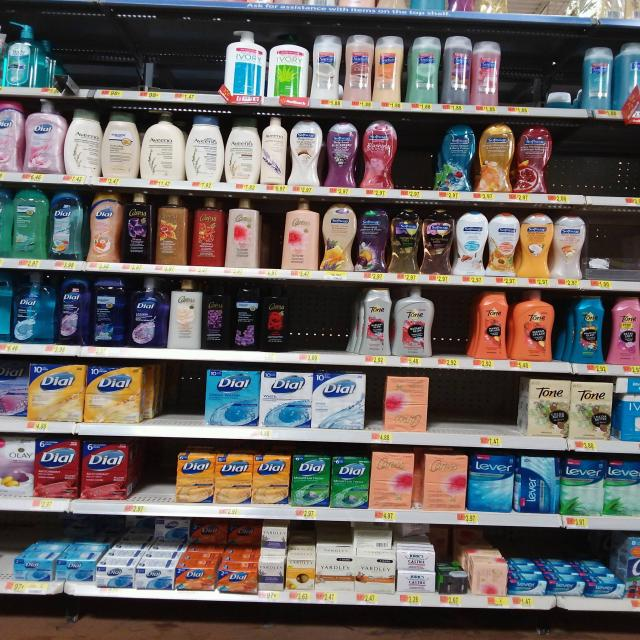void: (512, 39, 582, 118), (141, 3, 188, 107), (293, 280, 351, 363), (592, 209, 638, 299), (146, 366, 197, 437), (97, 13, 137, 103), (472, 370, 512, 455), (192, 14, 228, 105), (53, 17, 90, 104), (557, 124, 595, 204), (602, 122, 640, 202), (402, 117, 437, 196), (136, 440, 172, 513), (437, 286, 467, 366), (436, 376, 465, 446)
